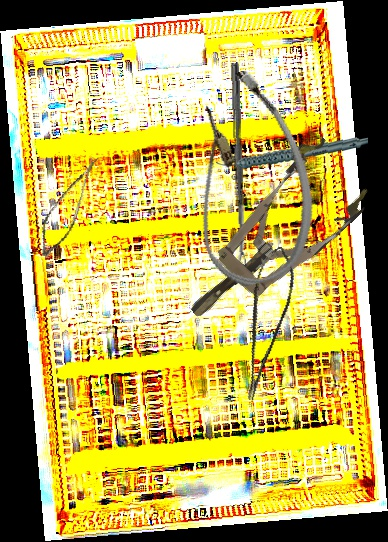Cannula: (161, 61, 333, 295)
Handpiece: (215, 126, 369, 179)
Micro Scissor: (219, 242, 306, 403), (35, 147, 99, 264)
Speculum: (161, 130, 380, 345)
Surgical Spoon: (229, 62, 247, 271)
